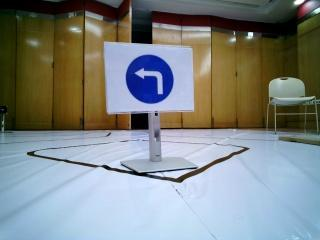left: (102, 47, 195, 110)
